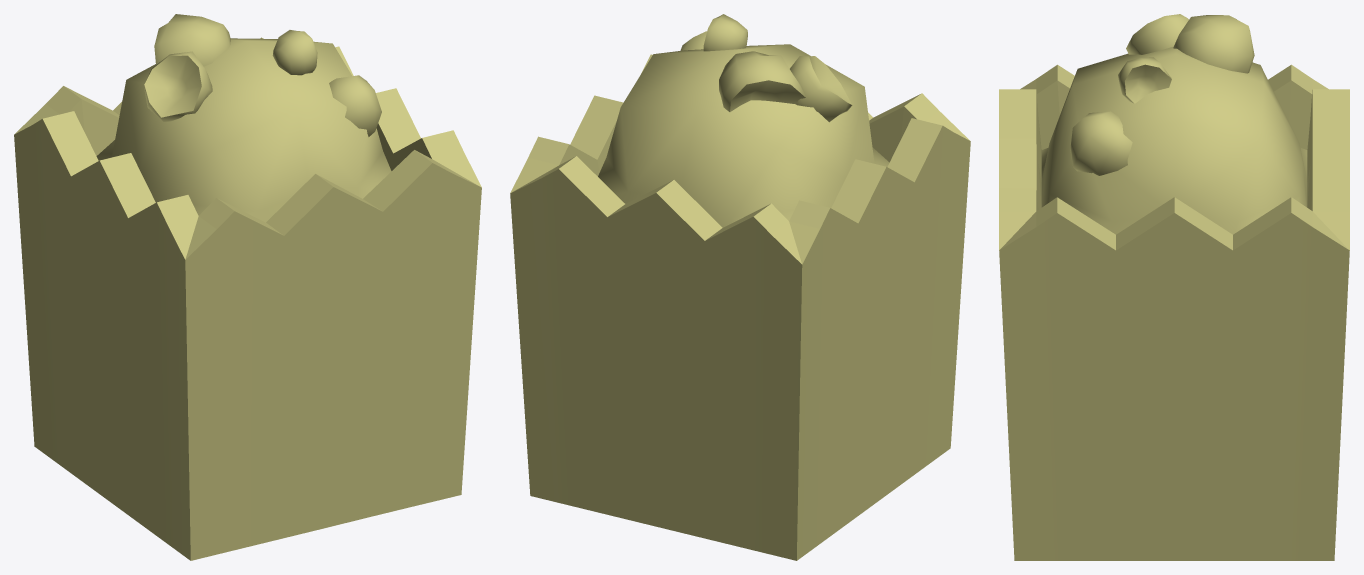
File: pizza_popcorn.glb
3 renders of one model, left to right at view 1: azimuth 30°, elevation 25°; view 2: azimuth 150°, elevation 25°; view 3: azimuth 270°, elevation 25°, orthographic. The views are drawn at different scales.
Visible parts, largest first — view 1: popcorn; view 2: popcorn; view 3: popcorn.
Part boxes in pixels (x1,y1,x2,y2): popcorn: (14, 14, 481, 560); popcorn: (510, 14, 970, 560); popcorn: (999, 14, 1349, 560).
Bounding box in the file's own units: 0.9 × 1.29 × 0.9.
